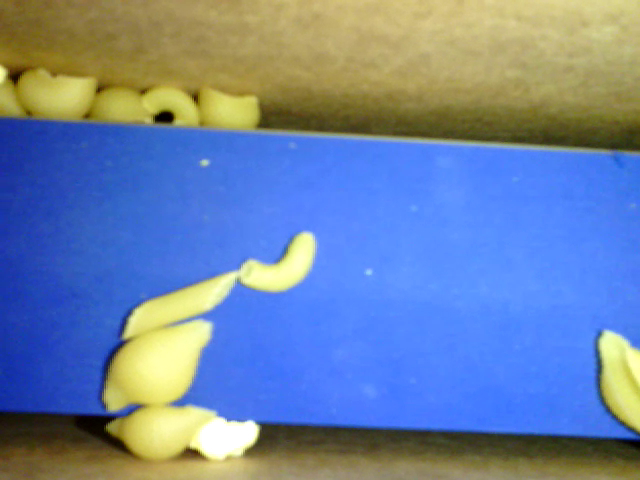elbow: (239, 228, 315, 293), (140, 86, 198, 127)
penne: (122, 270, 238, 340)
shell: (101, 316, 215, 412), (103, 403, 214, 460), (595, 326, 639, 433), (16, 66, 99, 120), (197, 82, 261, 130), (89, 83, 152, 123)
